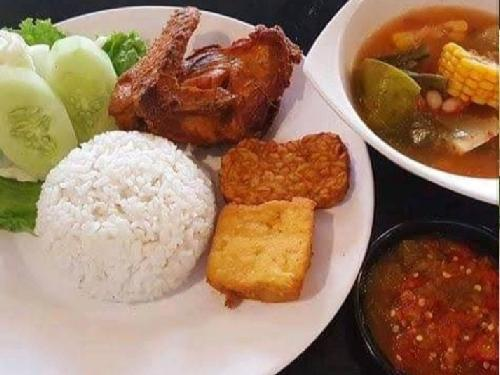buah_sayur_lainnya: (388, 18, 495, 126), (0, 42, 100, 133)
buah_sayur_vitA: (396, 255, 488, 354)
daging: (152, 69, 266, 125)
kacang_legume: (223, 207, 309, 287), (234, 140, 334, 195)
makanan_berpati: (66, 156, 182, 269)
